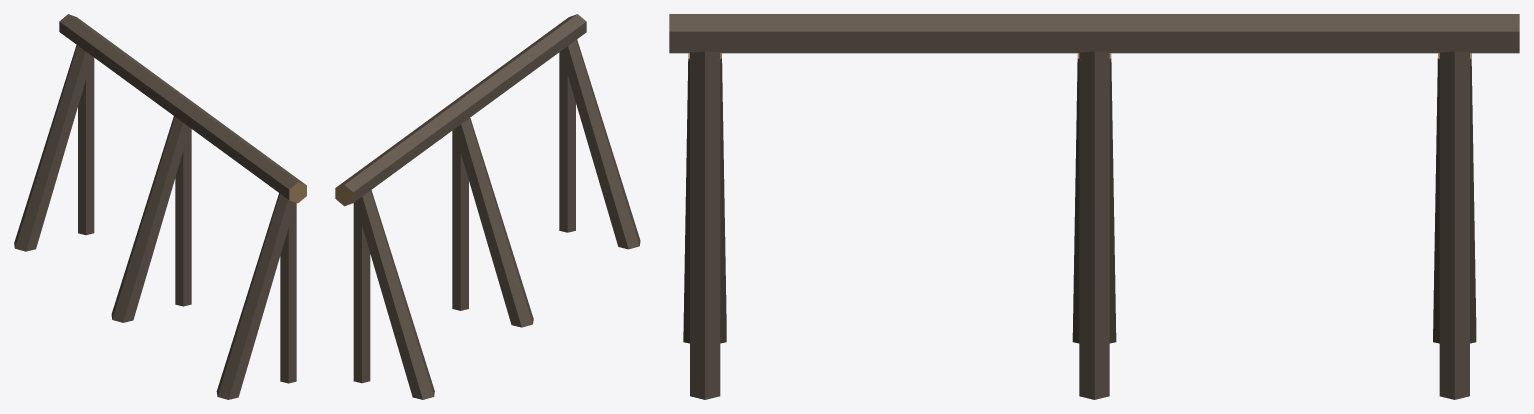
File: Weapon_Holder_03.fbx
3 renders of one model, left to right at view 1: azimuth 30°, elevation 25°; view 2: azimuth 150°, elevation 25°; view 3: azimuth 270°, elevation 25°, orthographic. The views are drawn at different scales.
Visible parts, largest first — view 1: Weapon_Holder_03; view 2: Weapon_Holder_03; view 3: Weapon_Holder_03.
Part boxes in pixels (box(x1,y1,x2,y2)): Weapon_Holder_03: box(14, 14, 306, 399); Weapon_Holder_03: box(335, 14, 640, 399); Weapon_Holder_03: box(669, 14, 1519, 399).
Size of the model in its own units: 10.88 by 26.69 by 54.37.
